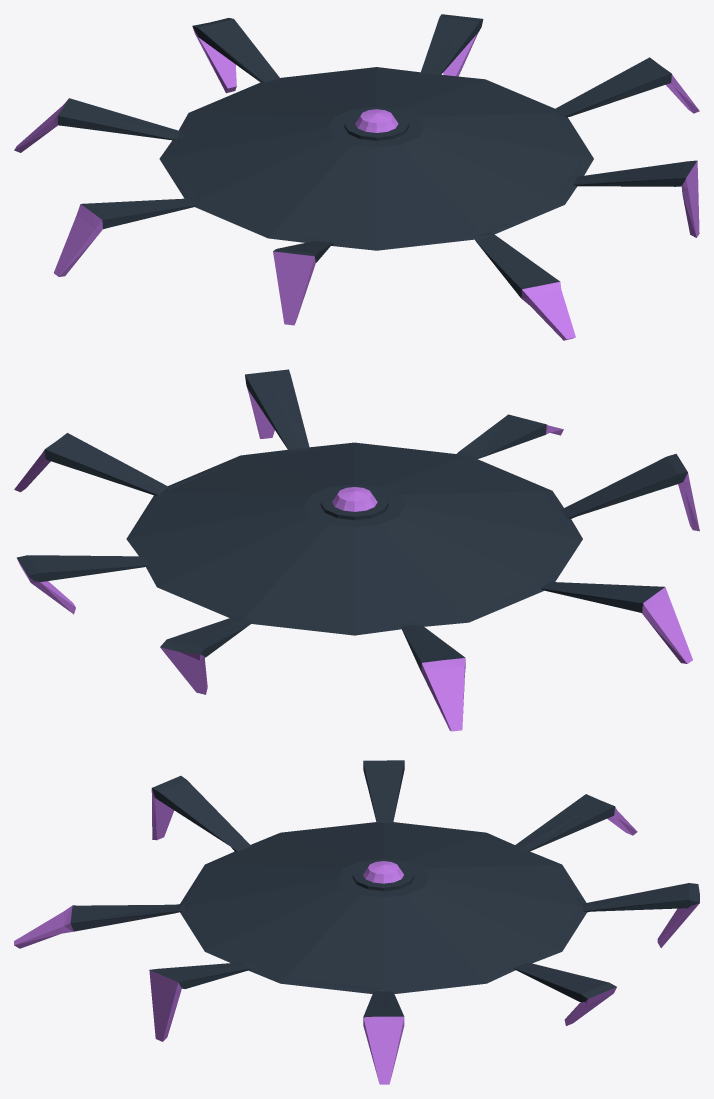
Rendered from Spider_Walk_000024.obj.
The picture shows the model from 3 angles, top to bottom: view 1: azimuth 30°, elevation 25°; view 2: azimuth 150°, elevation 25°; view 3: azimuth 270°, elevation 25°; orthographic projection. The views are drawn at different scales.
Parts seen in each view (by area): view 1: Circle_Circle.001; view 2: Circle_Circle.001; view 3: Circle_Circle.001.
Boxes of the visible parts, bbox=[...] form: Circle_Circle.001: bbox=[14, 14, 699, 340]; Circle_Circle.001: bbox=[14, 369, 699, 731]; Circle_Circle.001: bbox=[14, 760, 699, 1084].
Bounding box in the file's own units: 3.41 × 0.4371 × 3.32.
